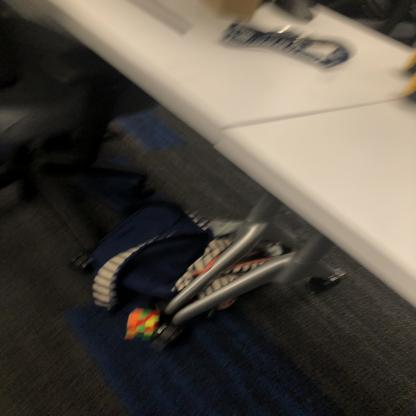UnsolvedCube: (128, 308, 158, 337)
